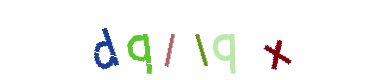1: (140, 0, 220, 80), (145, 0, 225, 80)
D: (65, 0, 145, 80)
Q: (113, 0, 193, 80), (171, 0, 251, 80)
X: (237, 0, 317, 80)
